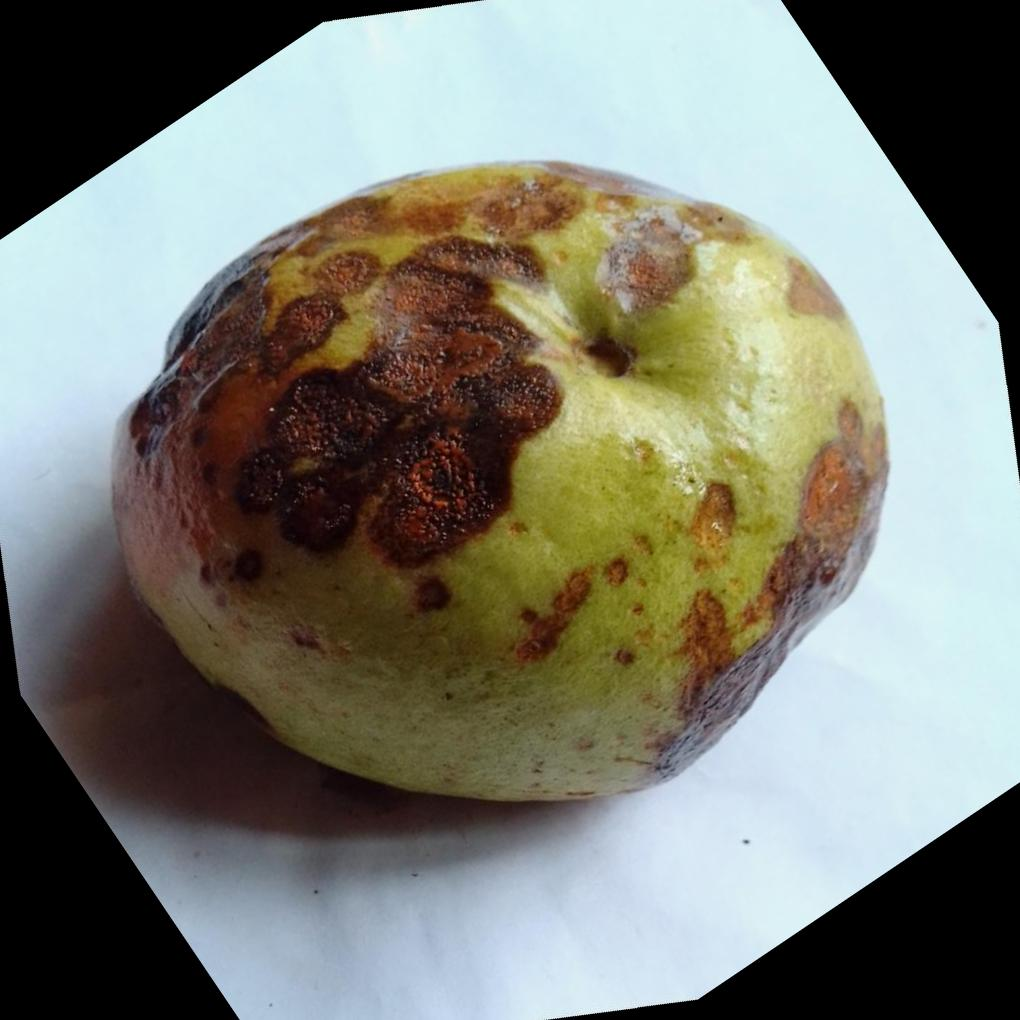FreshOrange: (103, 159, 888, 804)
